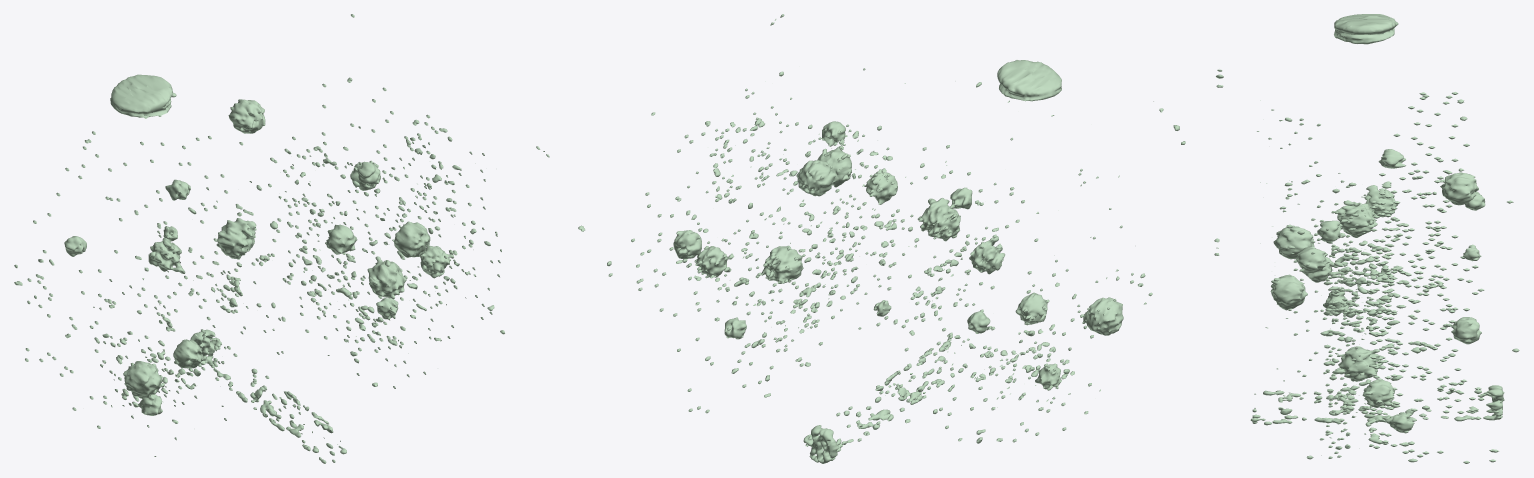
Rendered from testGhost2.gltf.
The picture shows the model from 3 angles, left to right: view 1: azimuth 30°, elevation 25°; view 2: azimuth 150°, elevation 25°; view 3: azimuth 270°, elevation 25°; orthographic projection. The views are drawn at different scales.
Visible parts, largest first — view 1: grp1.001; view 2: grp1.001; view 3: grp1.001.
Part boxes in pixels (<box>): grp1.001: <box>14,14,549,463</box>; grp1.001: <box>578,14,1185,463</box>; grp1.001: <box>1214,14,1519,463</box>.
Bounding box in the file's own units: 206 × 165 × 132.
